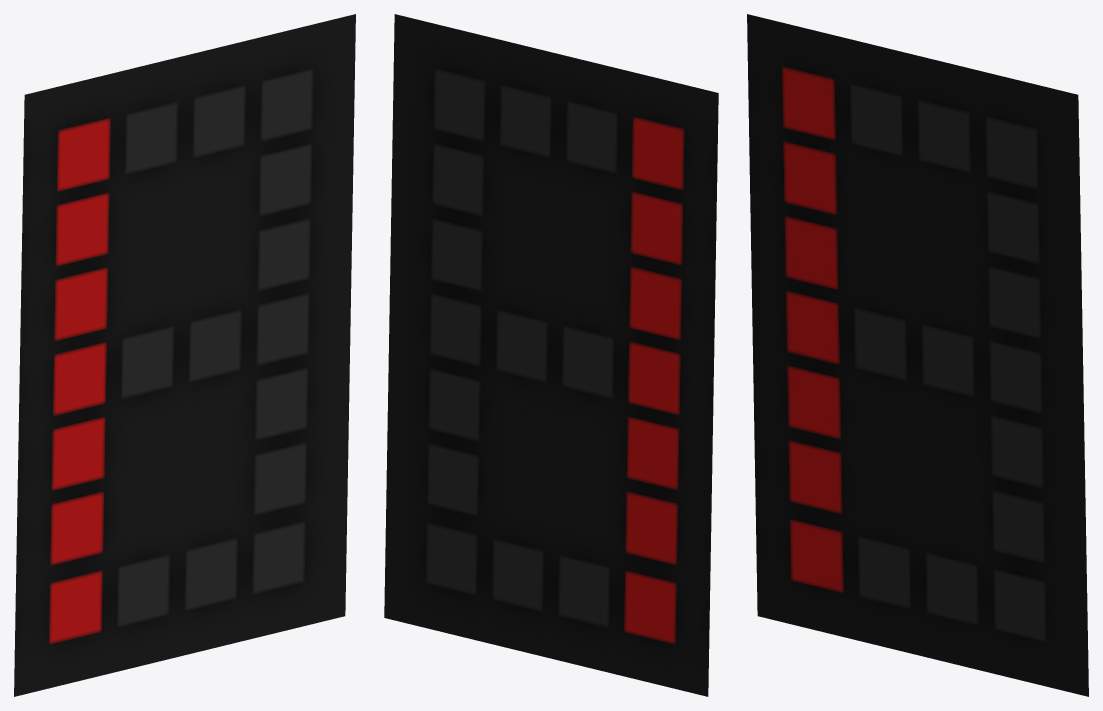
The picture shows the model from 3 angles, left to right: view 1: azimuth 30°, elevation 25°; view 2: azimuth 150°, elevation 25°; view 3: azimuth 330°, elevation 25°; orthographic projection. The views are drawn at different scales.
Visible parts, largest first — view 1: scorebord.001; view 2: scorebord.001; view 3: scorebord.001.
Boxes of the visible parts, x1,y1,x2,y2 form: scorebord.001: [14, 14, 355, 696]; scorebord.001: [384, 14, 718, 696]; scorebord.001: [747, 14, 1088, 696].
Bounding box in the file's own units: 0.00402 × 0.00706 × 0.000222.
1 material, 1 textured.
